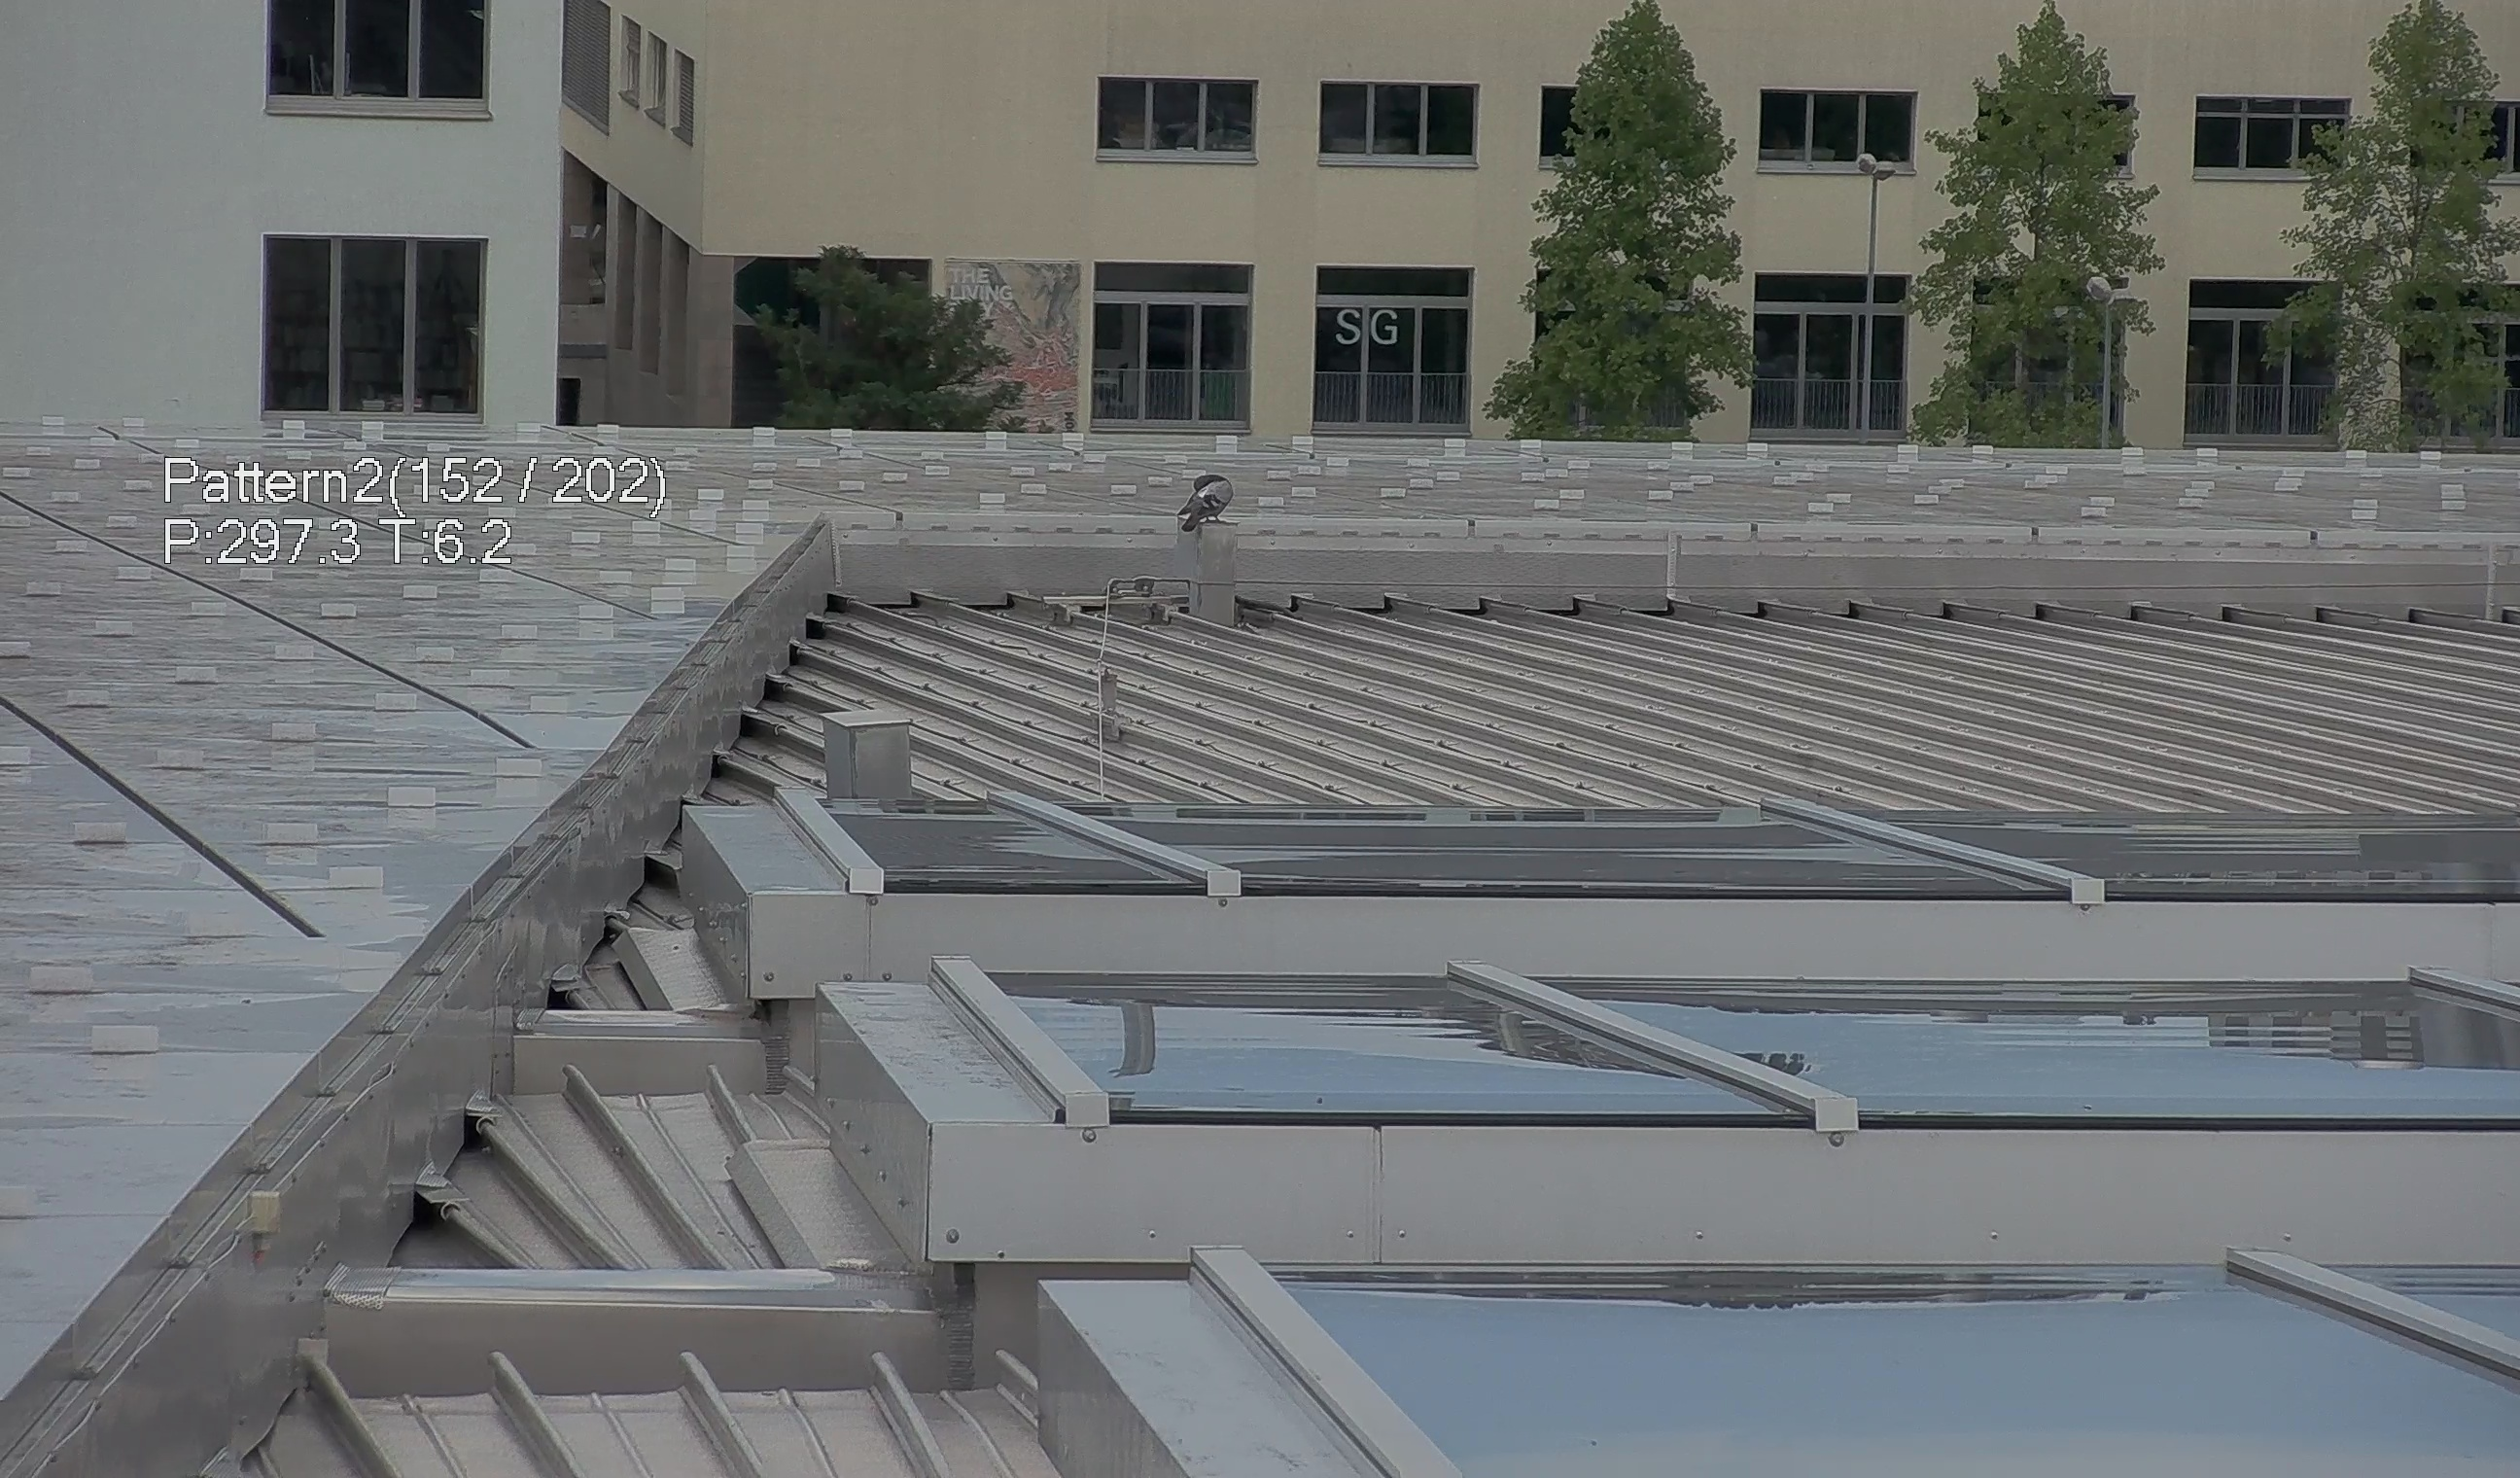Pigeon: (1169, 454, 1236, 531)
